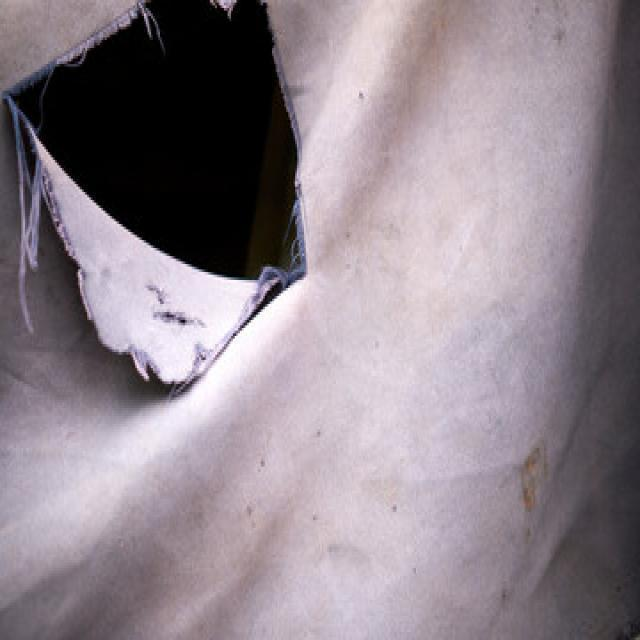Hole: (14, 0, 297, 278)
